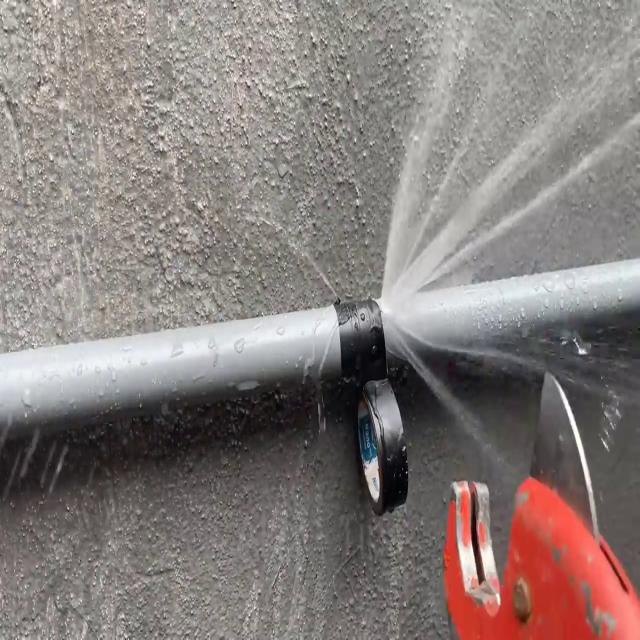leak: (384, 0, 640, 403)
